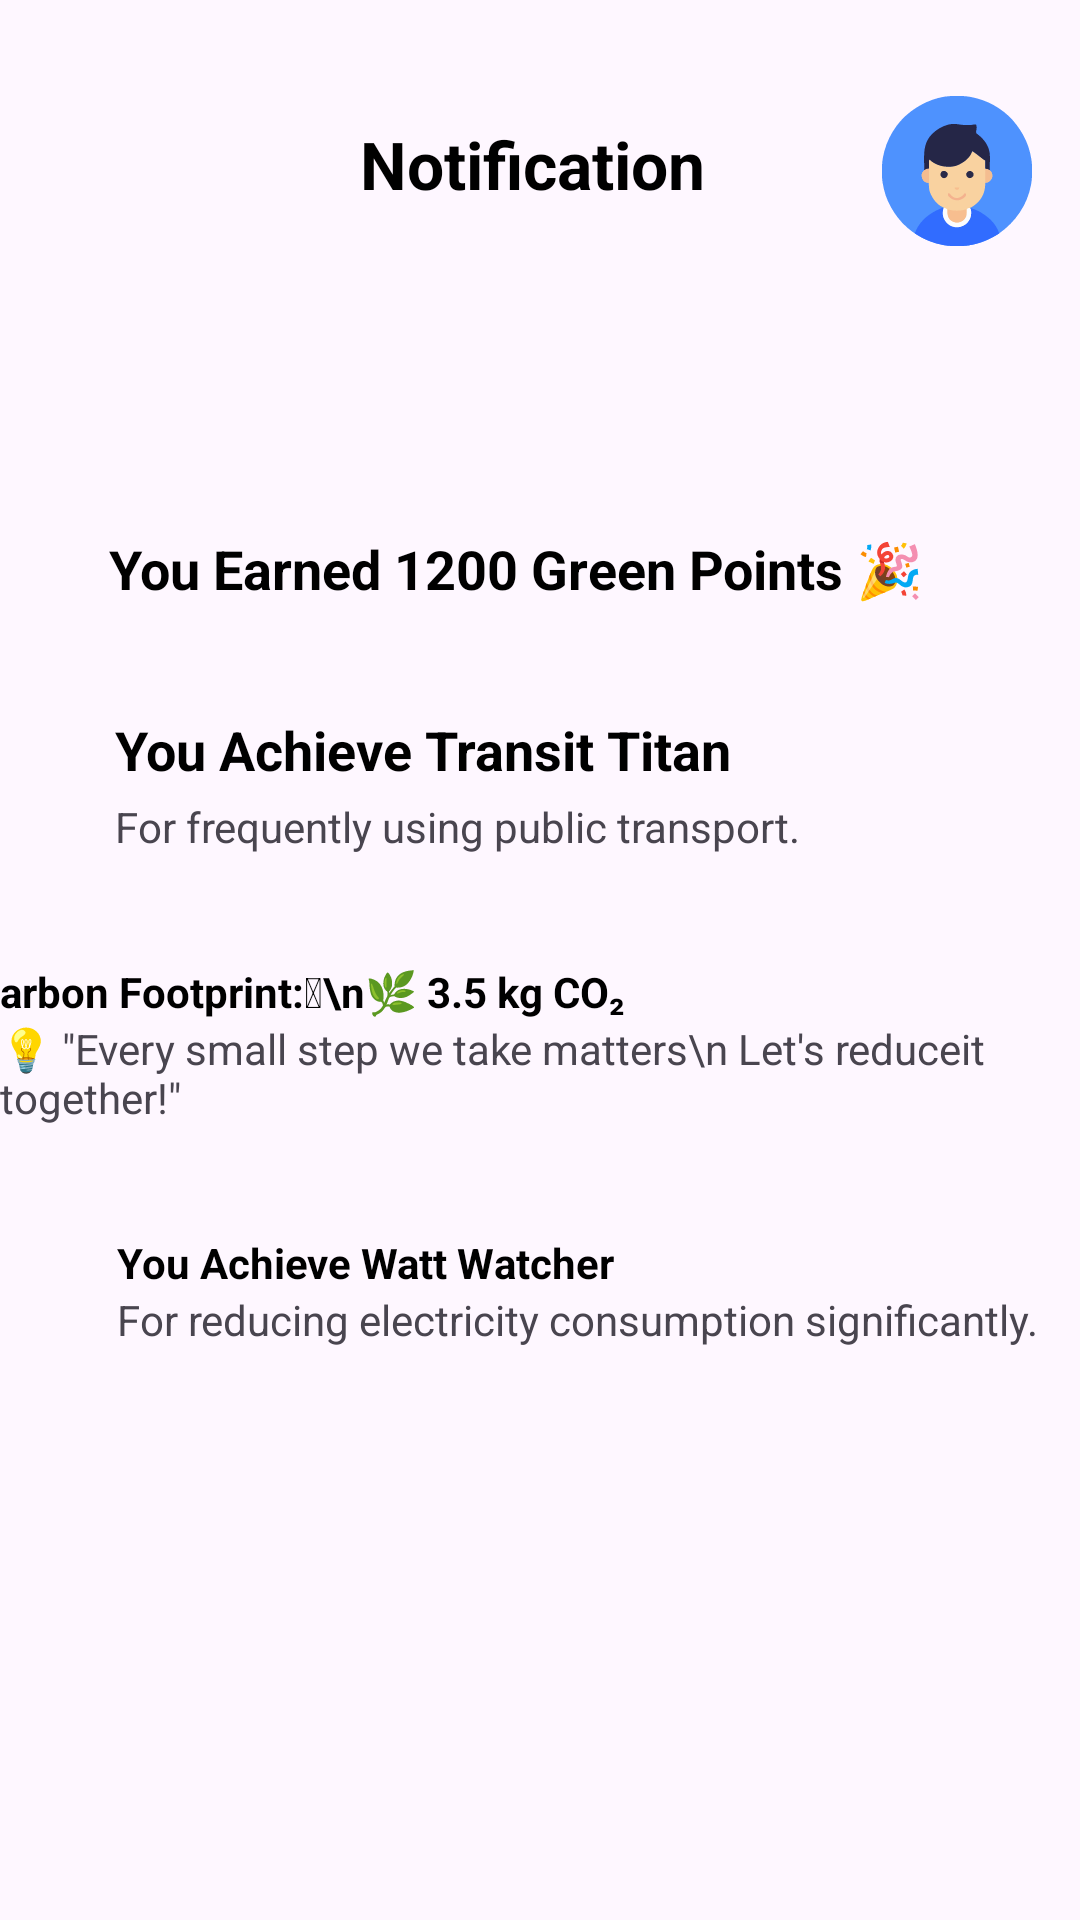

Icon bounding boxes for this 1080×1920 phone screenshot, format (x1, y1, x2, y2):
profile: (882, 96, 1032, 246)
